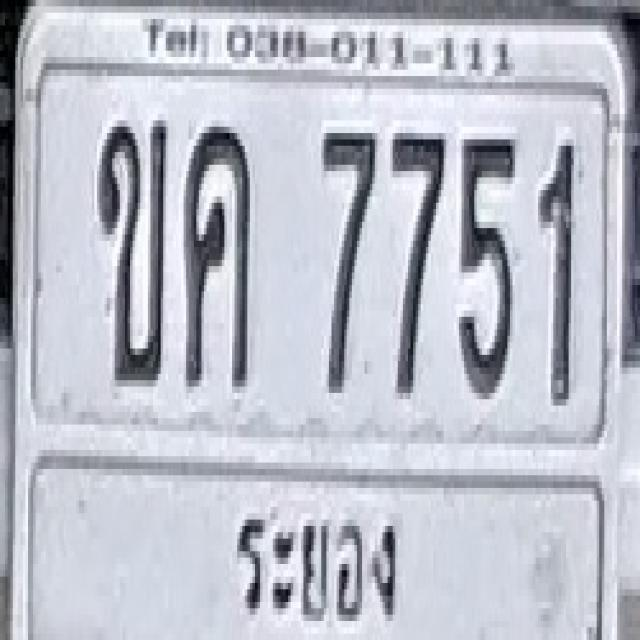-: (97, 118, 168, 384), (183, 123, 250, 390)
1: (538, 140, 574, 406)
5: (458, 133, 516, 393)
7: (322, 127, 378, 393), (391, 130, 445, 396)
RYG: (216, 461, 431, 640)
